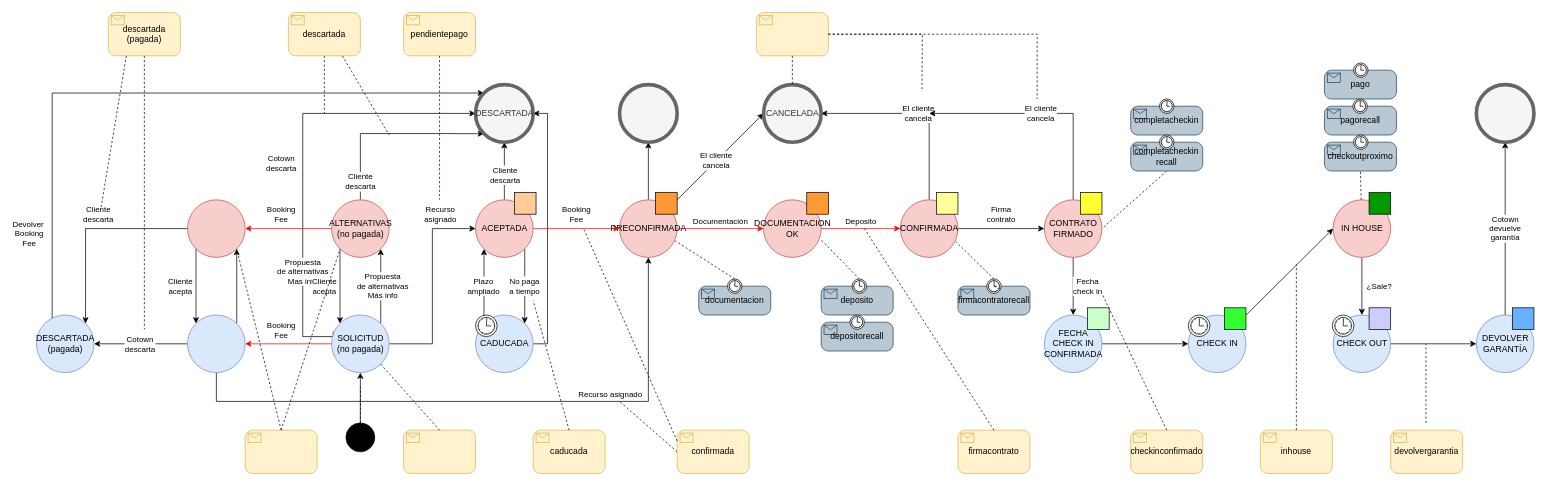
This 1548x486 diagram has some shape labels left out. Here are the shapes that lost their labels. From the top down, the centre of each, then its label:
At pixel 792 34: "cancelada (penalizacion)".
At pixel 648 113: "SIN DCUMENTACION".
At pixel 1504 113: "FINALIZADA".
At pixel 216 228: "ALTERNATIVAS (pagada)".
At pixel 216 343: "SOLICITUD (pagada)".
At pixel 280 451: "alternativas".
At pixel 439 451: "solicitud".
